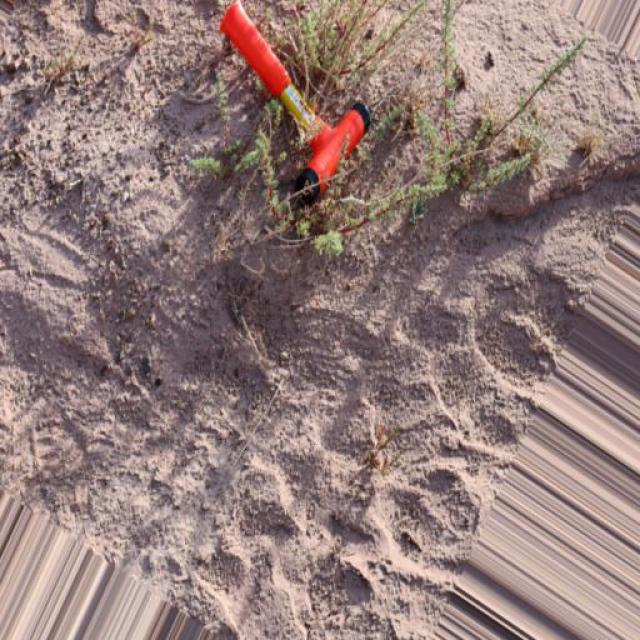mallet: (216, 0, 372, 206)
